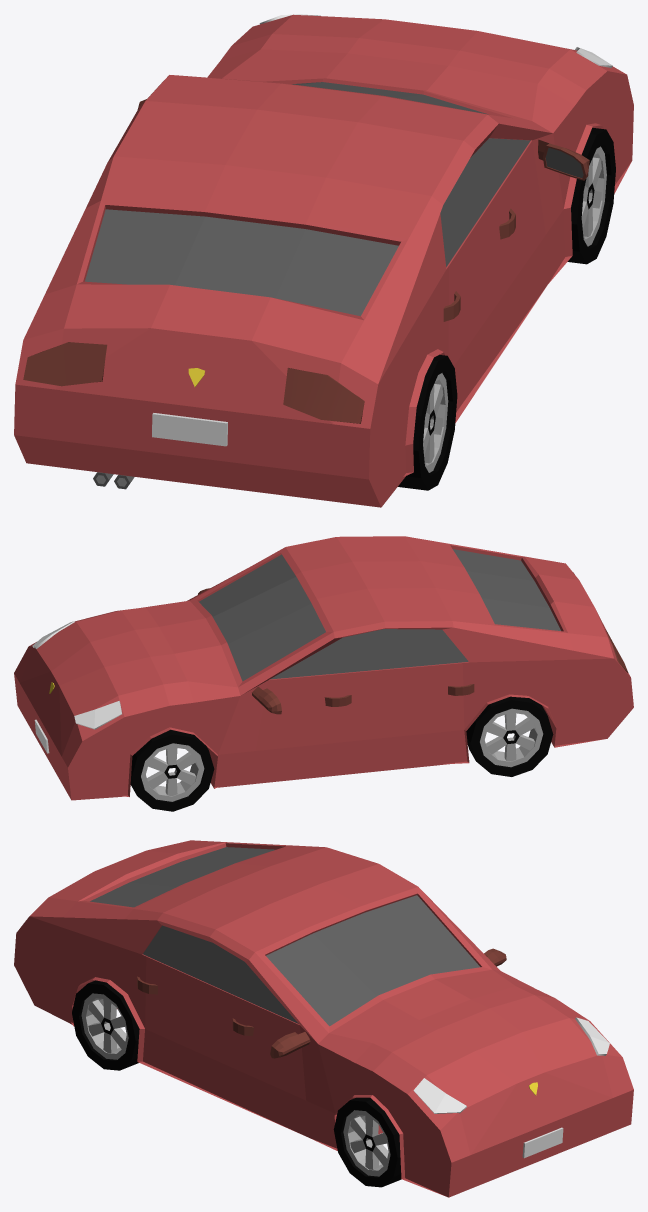
Rendered from Car A Red.fbx.
3 renders of one model, top to bottom at view 1: azimuth 30°, elevation 25°; view 2: azimuth 150°, elevation 25°; view 3: azimuth 270°, elevation 25°, orthographic. The views are drawn at different scales.
Visible parts, largest first — view 1: Car A Red; view 2: Car A Red; view 3: Car A Red.
Part boxes in pixels (x1,y1,x2,y2): Car A Red: (14,14,633,507); Car A Red: (14,536,633,811); Car A Red: (14,840,633,1197).
Bounding box in the file's own units: 526 × 515 × 164.
